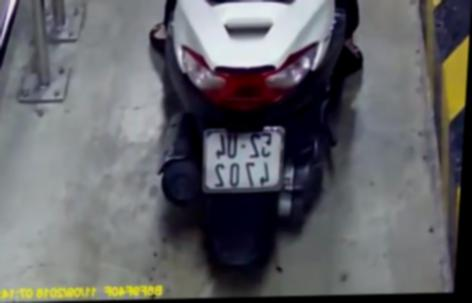License_Plate: (193, 119, 295, 199)
